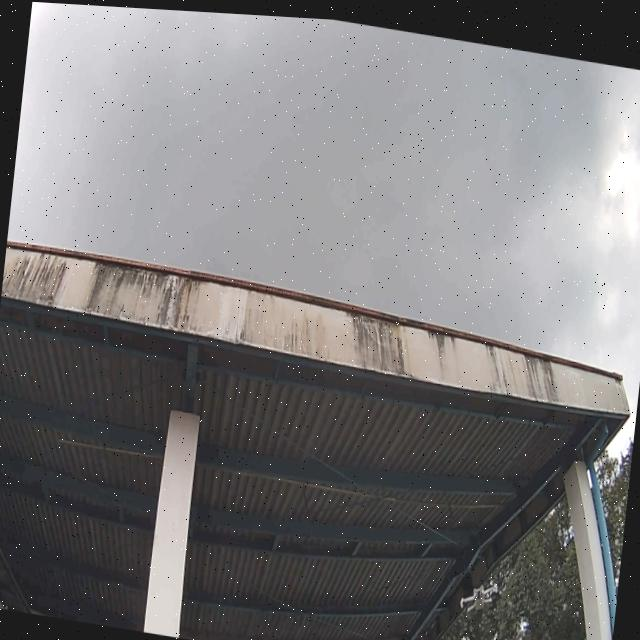drone: (458, 571, 499, 613)
